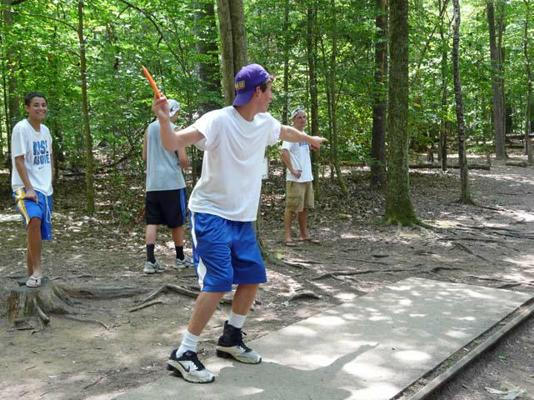person: (148, 63, 326, 383)
